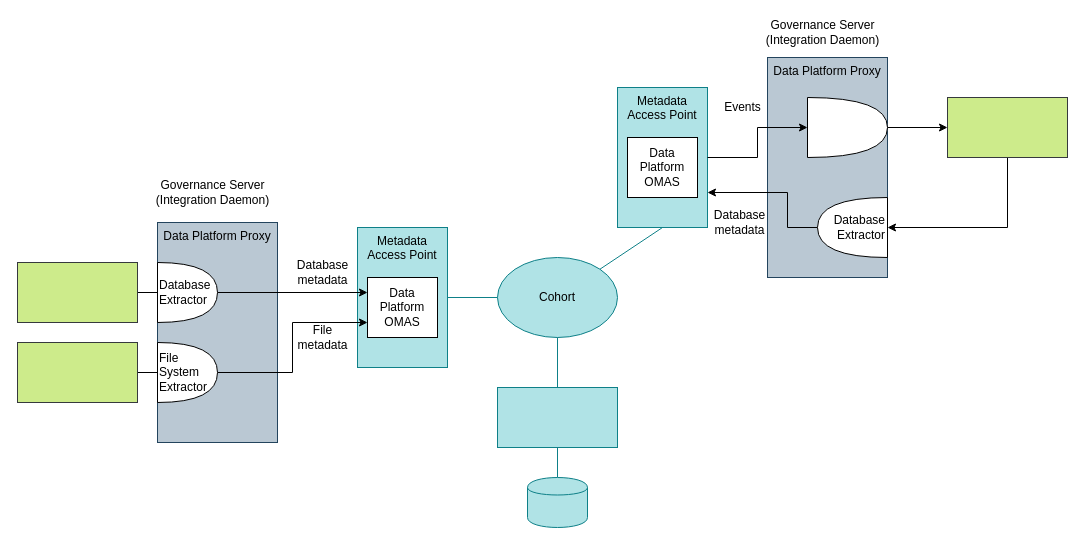
Image size: 1085x545. Some labels were removed from this diagram. The box of each missing label's shape, as (x1, y1, x2, y2) in pixels:
Data Virtualization Engine: (946, 96, 1068, 158)
Database Server: (16, 262, 138, 322)
Database View Maker: (806, 96, 888, 158)
FileSystem: (16, 342, 138, 402)
Metadata Server: (496, 386, 618, 448)
